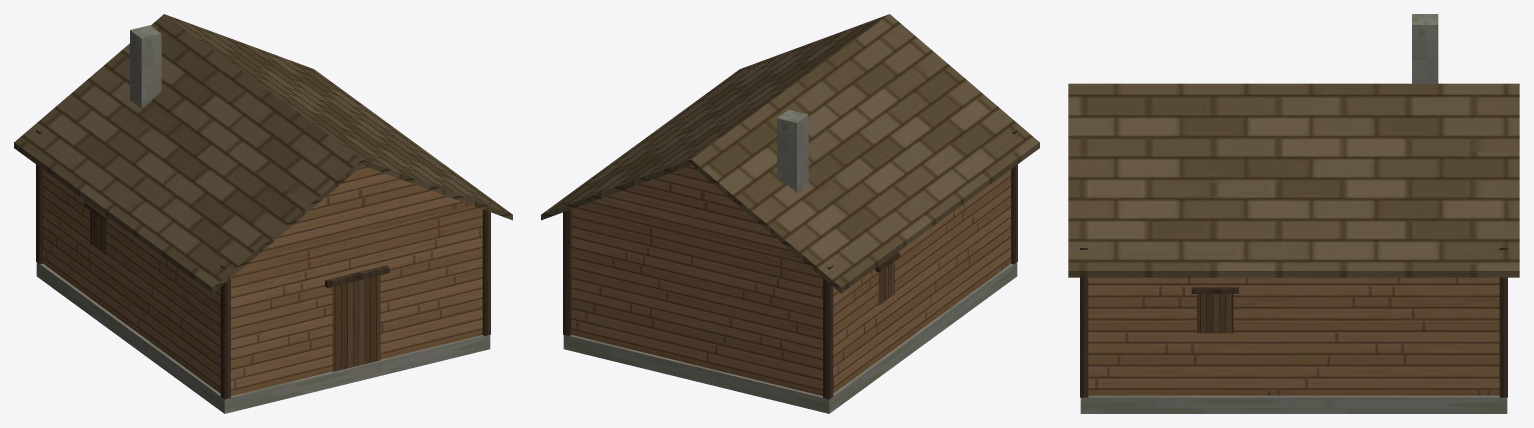
File: ae_forest_wood_large_barn_lod1.glb
The picture shows the model from 3 angles, left to right: view 1: azimuth 30°, elevation 25°; view 2: azimuth 150°, elevation 25°; view 3: azimuth 270°, elevation 25°; orthographic projection. The views are drawn at different scales.
Parts seen in each view (by area): view 1: ae_forest_wood_large_barn_lod1; view 2: ae_forest_wood_large_barn_lod1; view 3: ae_forest_wood_large_barn_lod1.
Boxes of the visible parts, <box> form: ae_forest_wood_large_barn_lod1: <box>14,14,512,413</box>; ae_forest_wood_large_barn_lod1: <box>541,14,1039,413</box>; ae_forest_wood_large_barn_lod1: <box>1068,14,1519,413</box>.
Size of the model in its own units: 7.5 by 6.05 by 8.6.
Materials: 1 (1 with a texture image).
